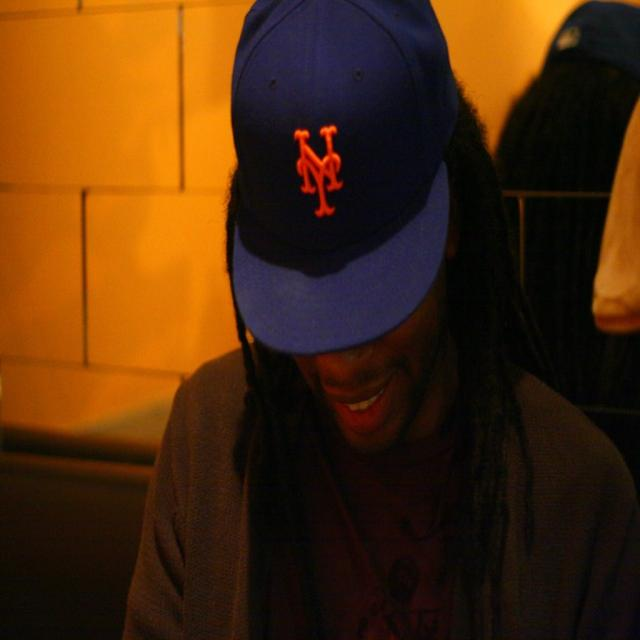Hat: (232, 0, 460, 354)
